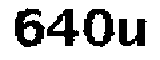0: (80, 6, 113, 51)
4: (46, 9, 80, 49)
6: (10, 6, 46, 49)
u: (116, 13, 147, 51)
